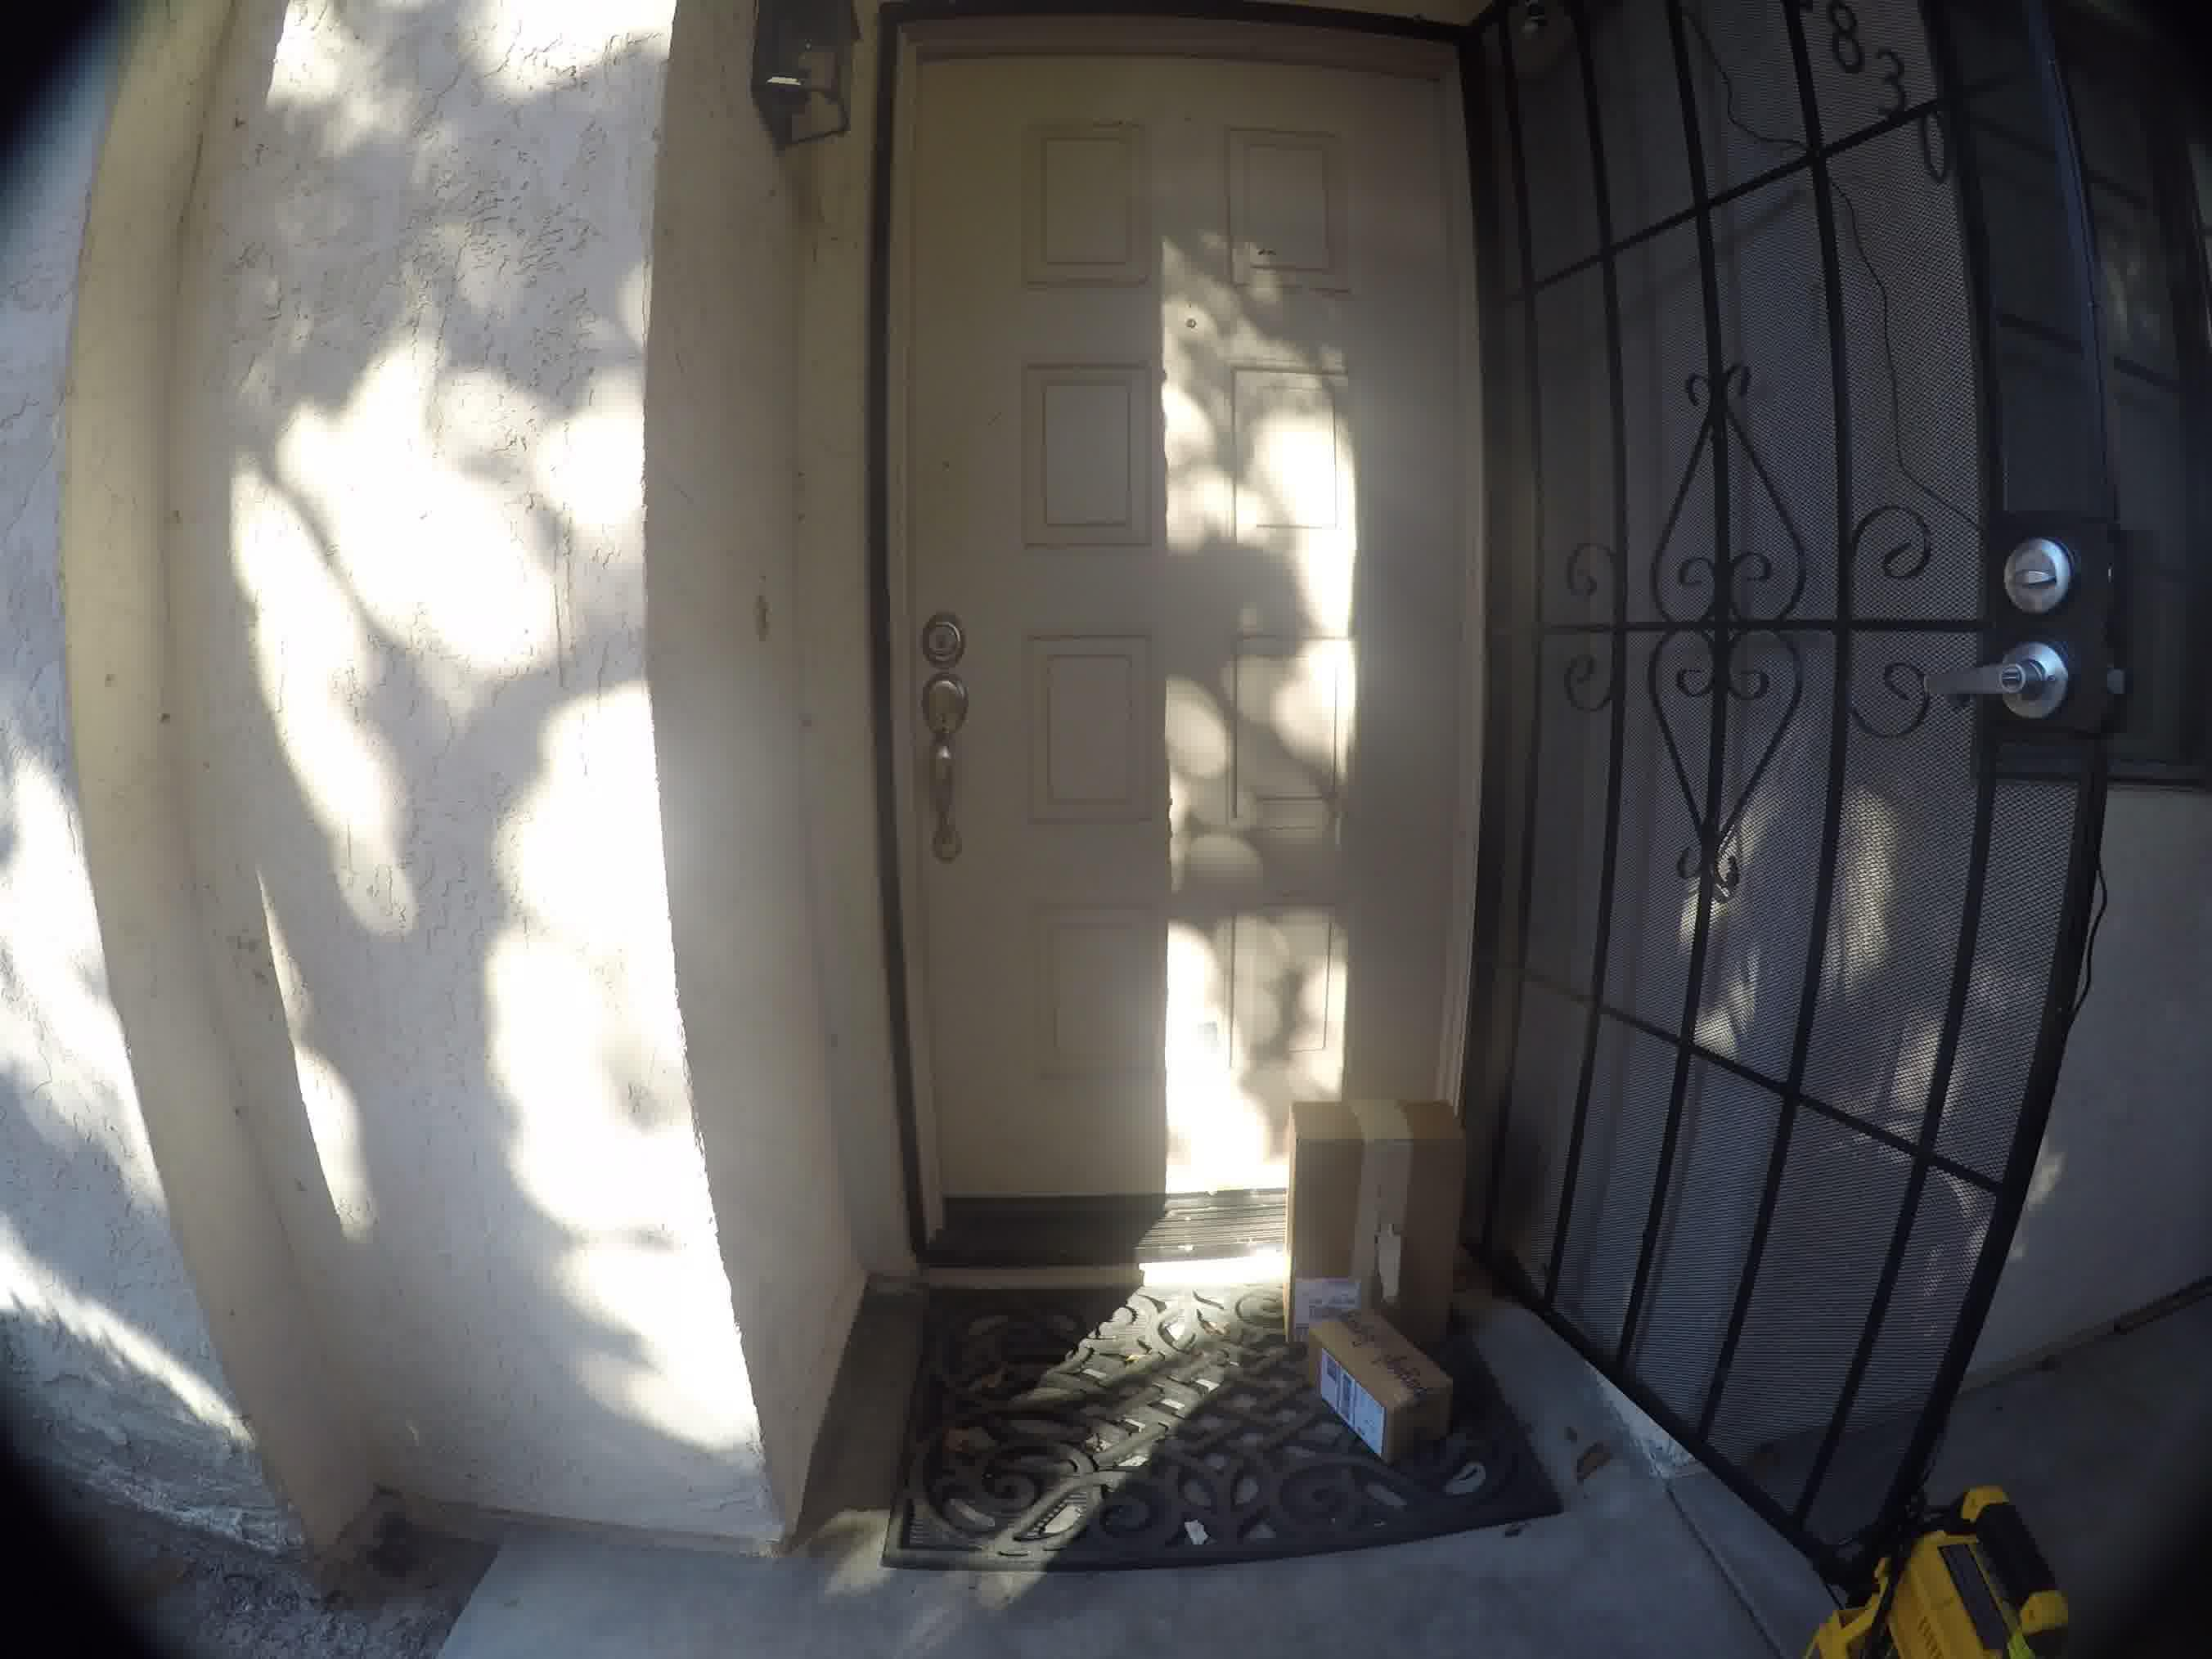box: (1237, 1075, 1489, 1290), (1256, 1290, 1496, 1471)
